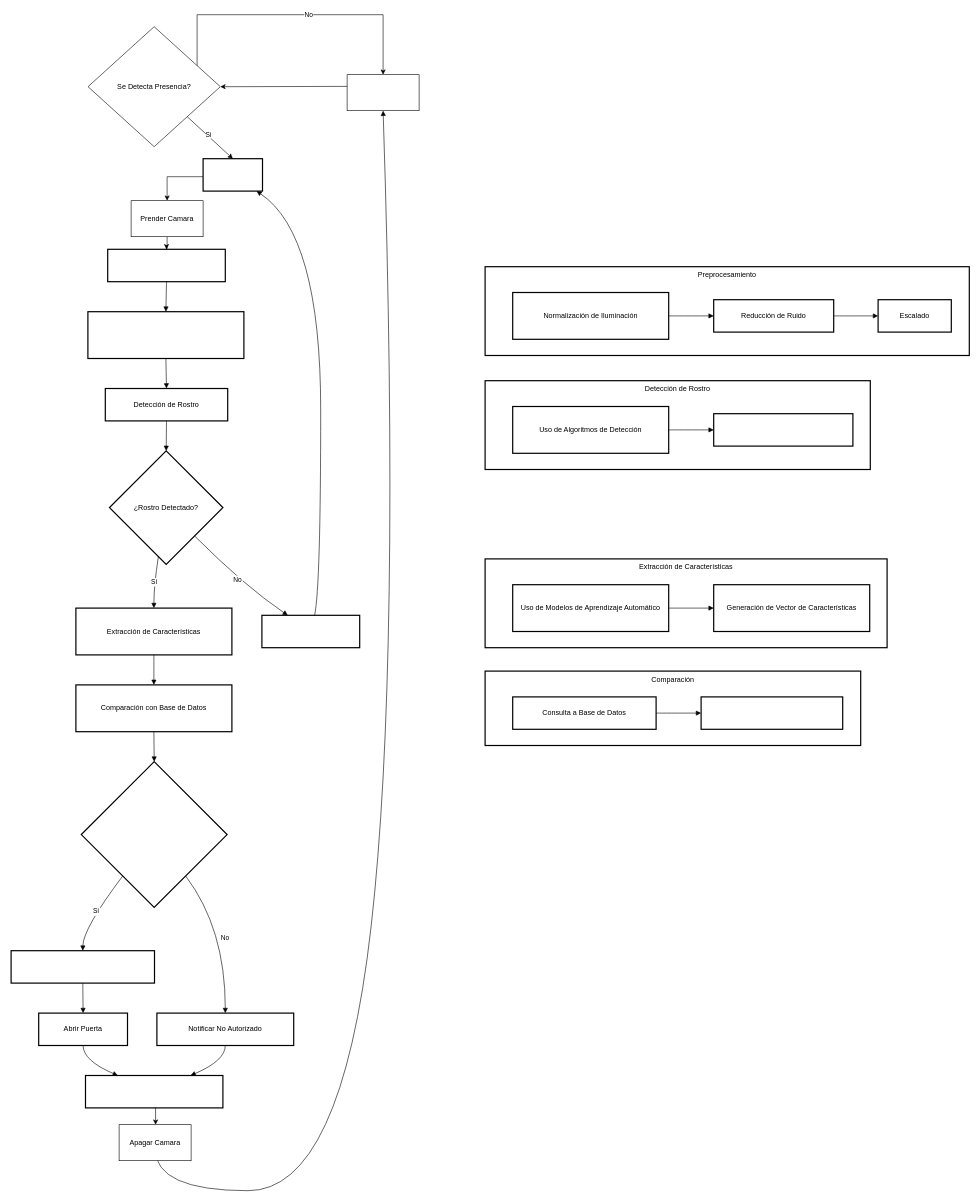
Image size: 980x1201. Some labels were removed from this diagram. The centre of each missing label's shape, as x and y in pixels:
Autorización de Apertura: point (82, 966)
Captura de Imagen: point (166, 265)
IDLE: point (382, 92)
Inicio: point (232, 174)
Notificar Error: point (310, 631)
Preprocesamiento de Imagen: point (165, 335)
Registrar Evento en Log: point (154, 1091)
Validación de Detección: point (783, 429)
Validación de Resultados: point (771, 713)
¿Coincidencia Encontrada?: point (153, 834)
